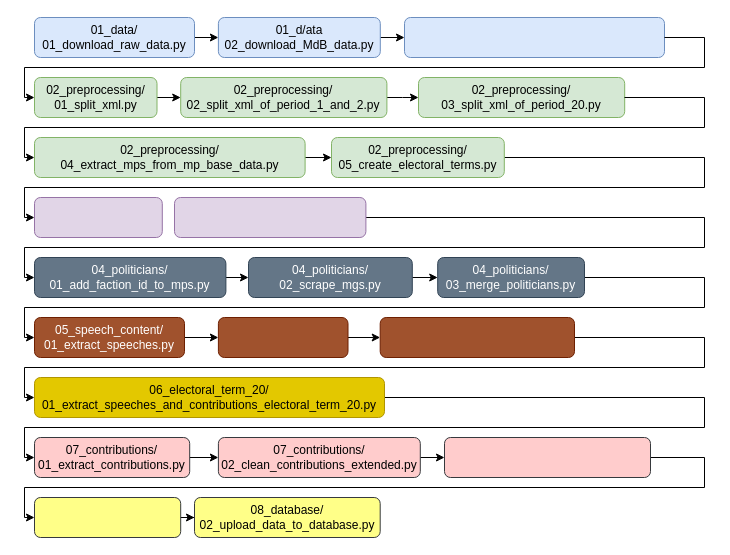
The diagram is 730 pixels wide and 555 high, and some of its shapes have lost their labels. Each missing label, with the centre of its shape:
01_data/ 03_download_raw_data_electoral_term_20.py: the point at 534,37
03_factions/ 01_create_factions.py: the point at 98,217
03_factions/ 02_add_abbreviations_and_ids.py: the point at 270,217
05_speech_content/ 02_clean_speeches.py: the point at 282,337
05_speech_content/ 03_match_names_speeches.py: the point at 476,337
07_contributions/ 03_match_contributions_extended.py: the point at 547,457
08_database/ 01_concat_everything.py: the point at 107,517
